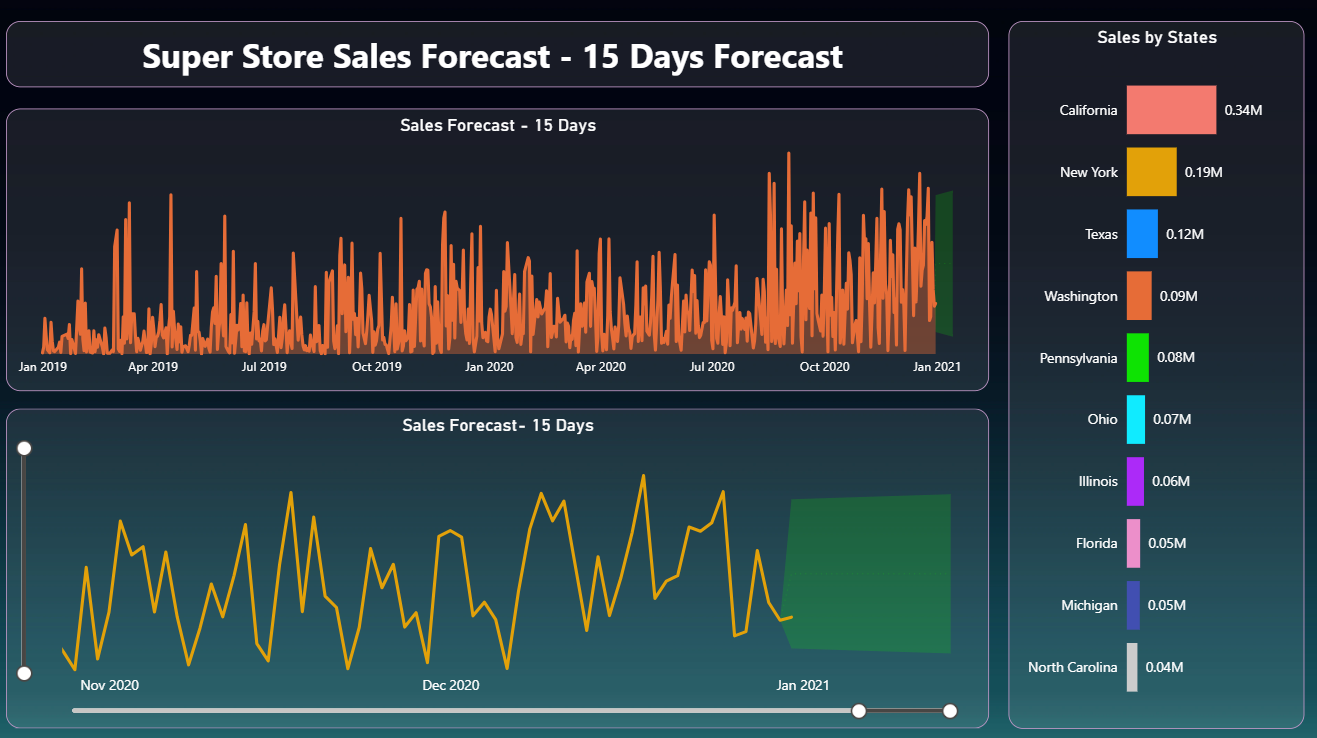

The page's visual inventory and layout, read from the dashboard file:
{"tool":"powerbi","page":{"name":"Page 2","canvas":[1280,720],"ordinal":1},"visuals":[{"type":"lineChart","title":"Sales Forecast - 15 Days","fields":{"Y":["Sum(Sheet1.Sales)"],"Category":["Sheet1.Order Date"]},"box":[10,108.6,948.6,272.9],"z":0},{"type":"lineChart","title":"Sales Forecast- 15 Days","fields":{"Y":["Sum(Sheet1.Sales)"],"Category":["Sheet1.Order Date"]},"box":[10,398.6,948.6,308.6],"z":1000},{"type":"textbox","box":[10,24.3,948.6,64.3],"z":2000},{"type":"clusteredBarChart","title":" Sales by States","fields":{"Y":["Sum(Sheet1.Sales)"],"Category":["Sheet1.State"]},"box":[977.1,24.3,285.7,682.9],"z":3000}]}

Visuals, with their boxes in screenshot pixels (x1, y1, x2, y2), scaled from the page's 1280x720 canvas onto the 1317x738 screenshot:
"Sales Forecast - 15 Days" lineChart: select_region(10, 111, 986, 391)
"Sales Forecast- 15 Days" lineChart: select_region(10, 409, 986, 725)
textbox: select_region(10, 25, 986, 91)
" Sales by States" clusteredBarChart: select_region(1005, 25, 1299, 725)
